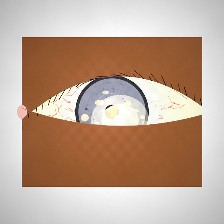corneal_ulcer: (90, 96, 150, 145)
